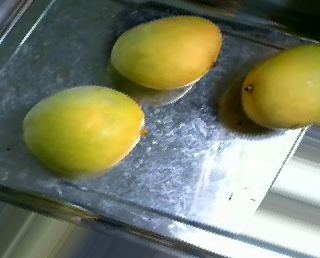Mango: (20, 84, 149, 179), (107, 12, 220, 88), (236, 38, 320, 133)
